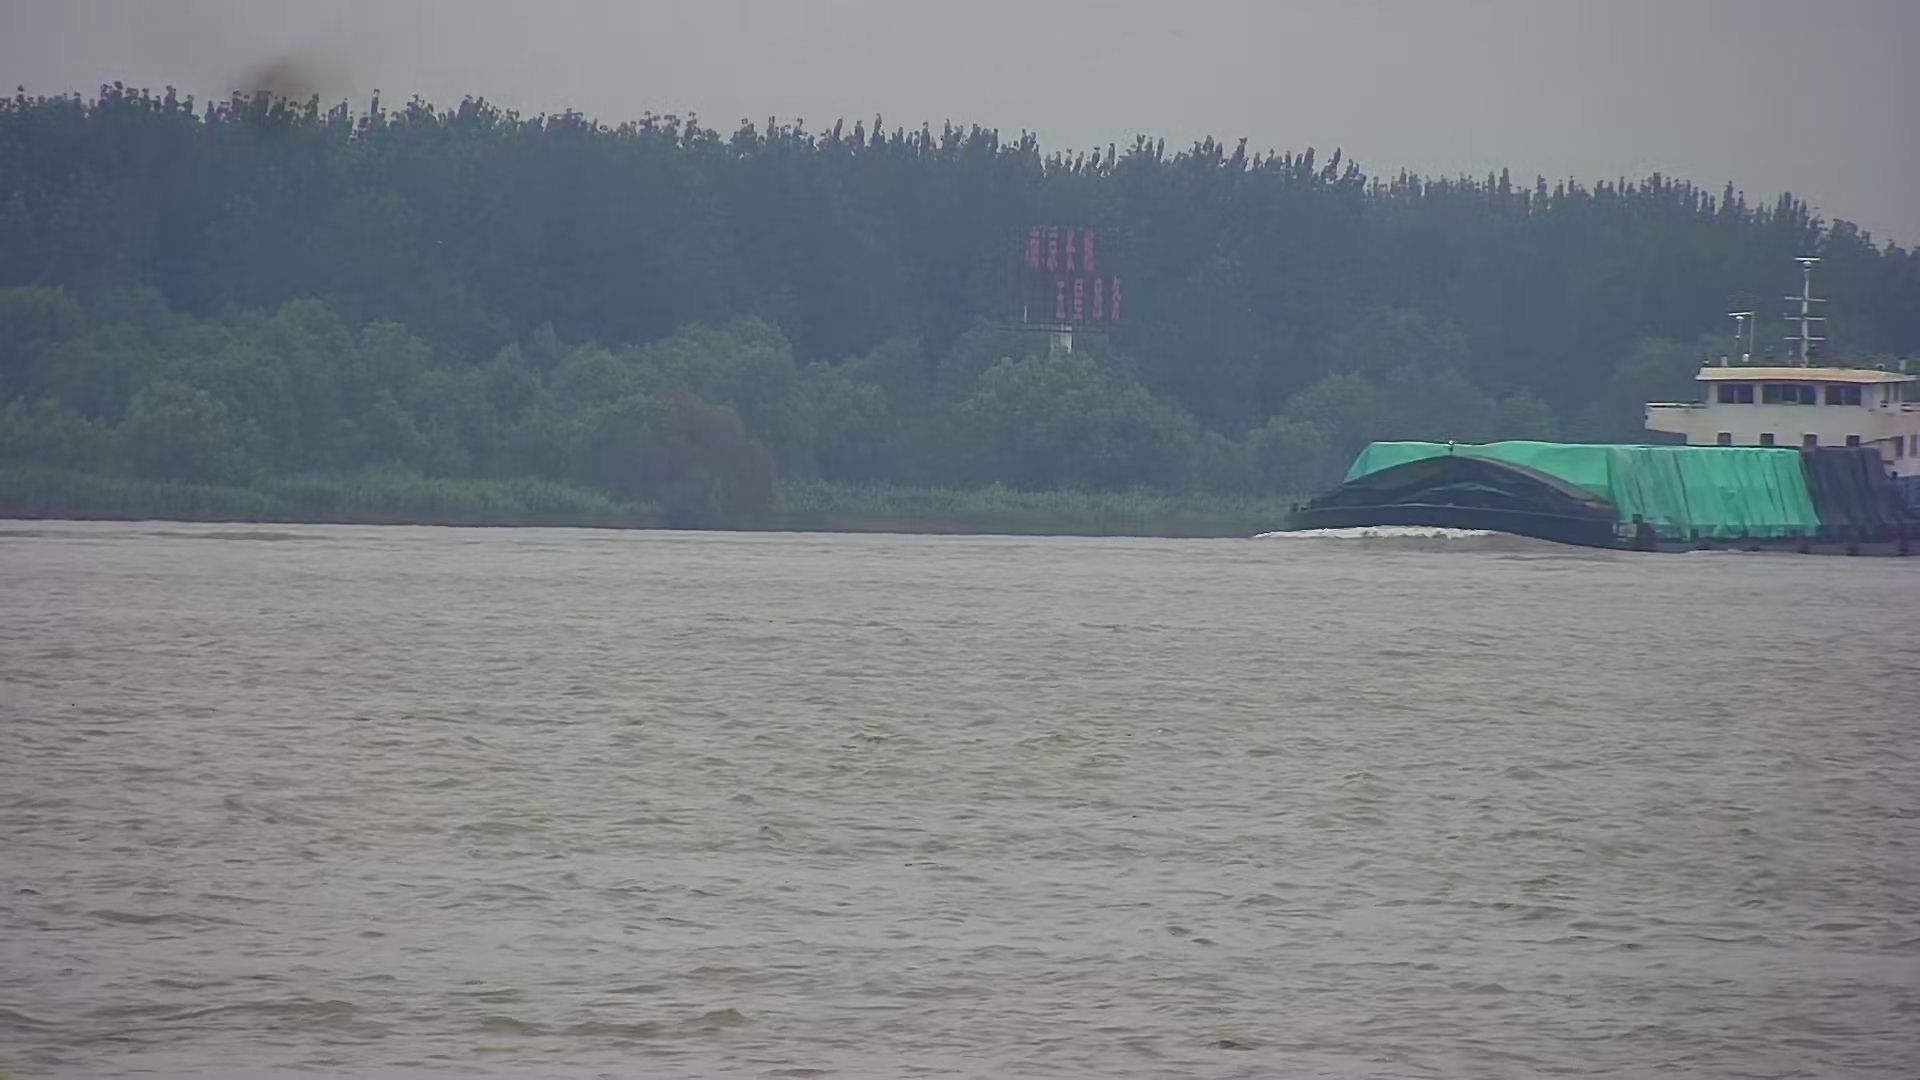ship: (1240, 311, 1920, 563)
